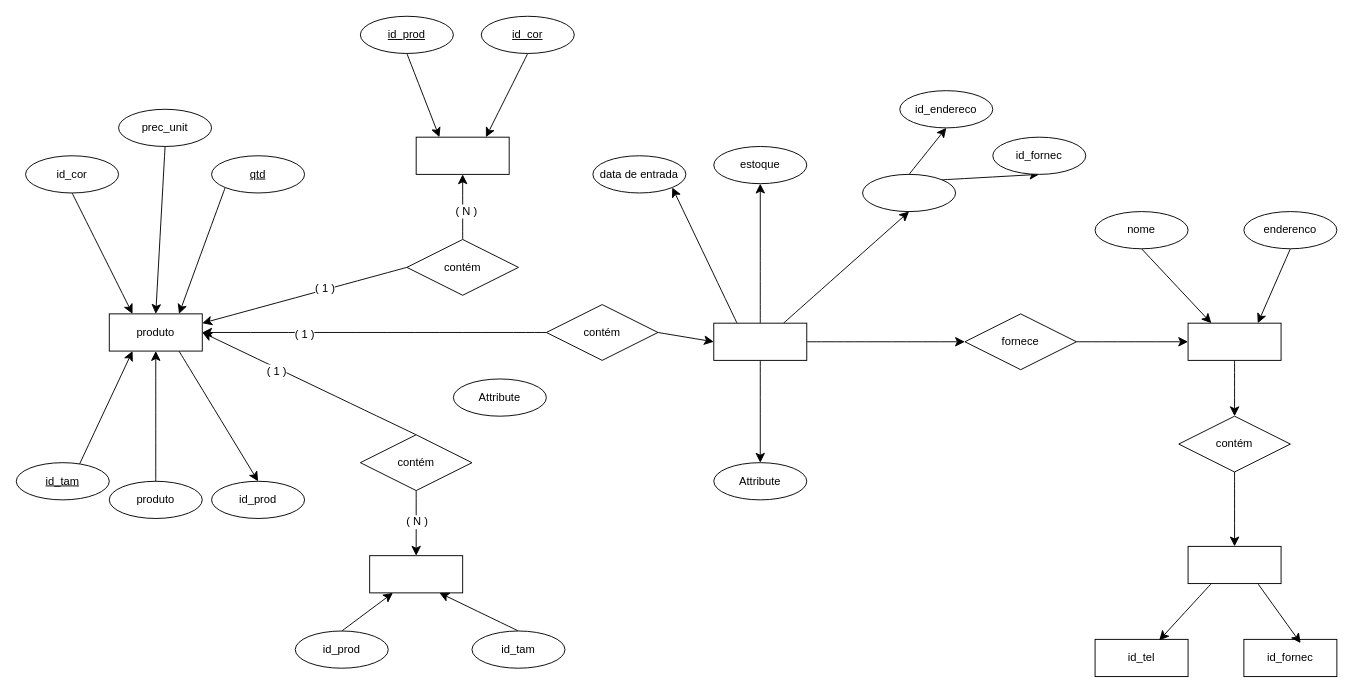
Image size: 1353x693. Some labels were removed from this diagram. The shapes that lost their labels are listed below. From the top down, each one's centre as x and y in pixels, then its label:
At point (462, 155): "cor".
At point (909, 192): "endereco".
At point (760, 341): "controle_estoque".
At point (1234, 341): "id_fornecedor".
At point (416, 574): "tamanho".
At point (1234, 564): "telefone".
